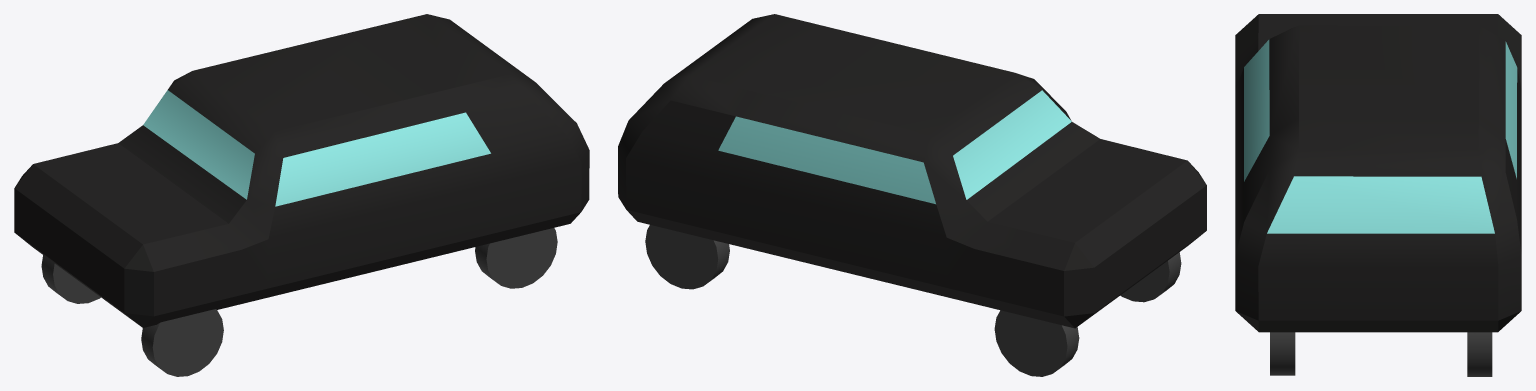
File: Car 1.fbx
The picture shows the model from 3 angles, left to right: view 1: azimuth 30°, elevation 25°; view 2: azimuth 150°, elevation 25°; view 3: azimuth 270°, elevation 25°; orthographic projection. The views are drawn at different scales.
Parts seen in each view (by area): view 1: pCube1, pCylinder1, pCylinder4, pCylinder2; view 2: pCube1, pCylinder2, pCylinder3, pCylinder1; view 3: pCube1, pCylinder3, pCylinder4.
Part boxes in pixels (x1,y1,x2,y2): pCube1: (14, 14, 589, 327); pCylinder1: (141, 309, 223, 376); pCylinder4: (475, 228, 557, 288); pCylinder2: (41, 255, 100, 303); pCube1: (618, 14, 1206, 328); pCylinder2: (994, 310, 1079, 376); pCylinder3: (645, 225, 729, 289); pCylinder1: (1120, 252, 1181, 302); pCube1: (1235, 14, 1521, 332); pCylinder3: (1467, 332, 1492, 376); pCylinder4: (1270, 332, 1295, 375).
Size of the model in its own units: 5.82 by 2.44 by 2.85.
